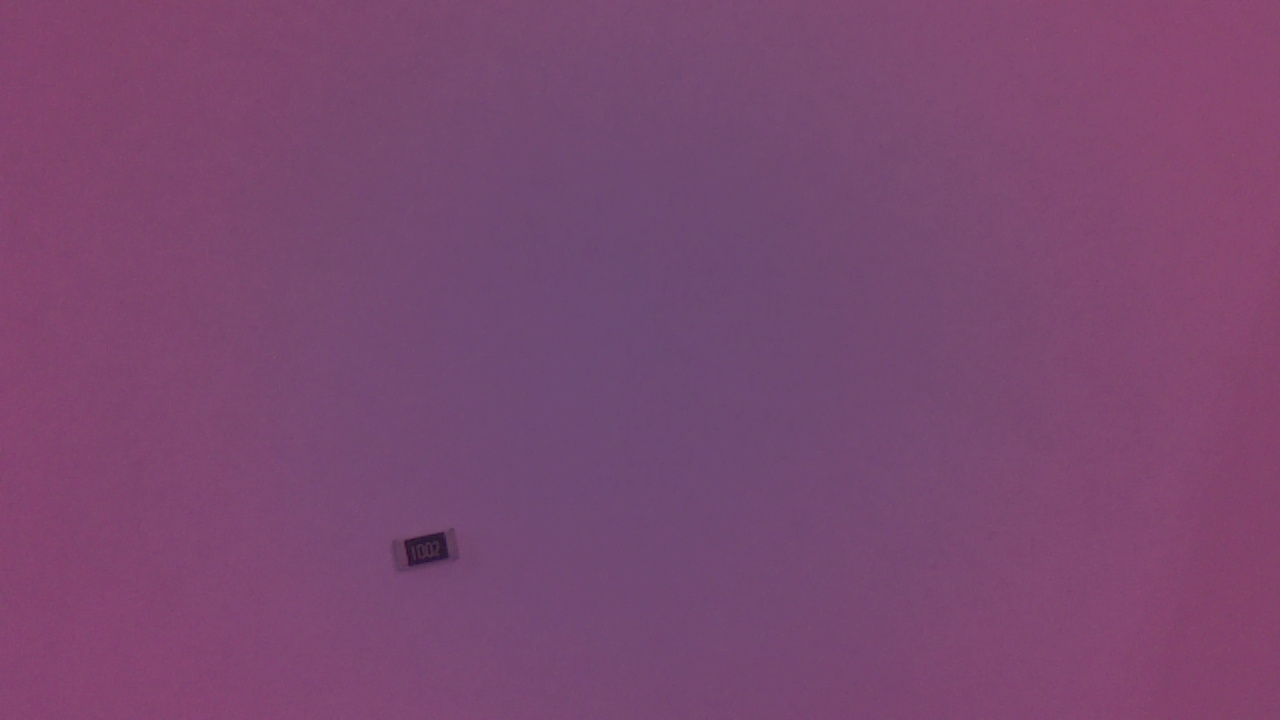Resistor: (389, 525, 470, 581)
